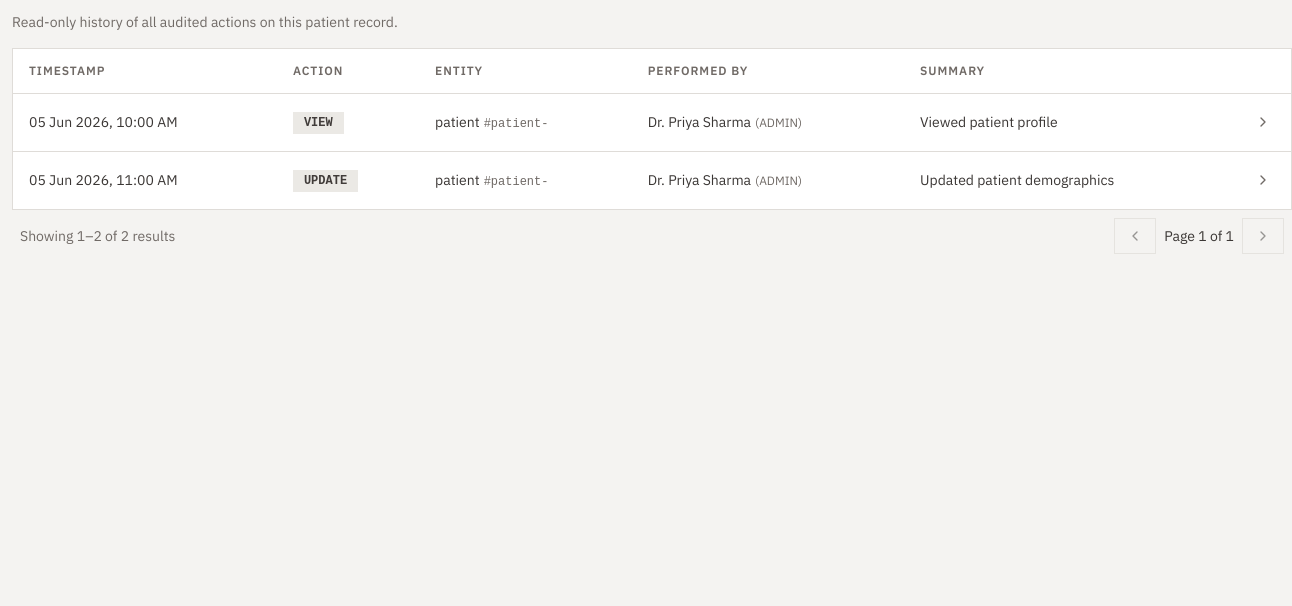
Test: AuditHistoryTab — detail panel › shows old/new value when an entry with data is expanded
Expected: the text "Updated patient demographics" is shown, [920, 170, 1140, 190]
Click the button named "view entry details" in the row of "05 Jun 2026, 11:00 AM" at (1263, 180), box [1251, 168, 1275, 192]
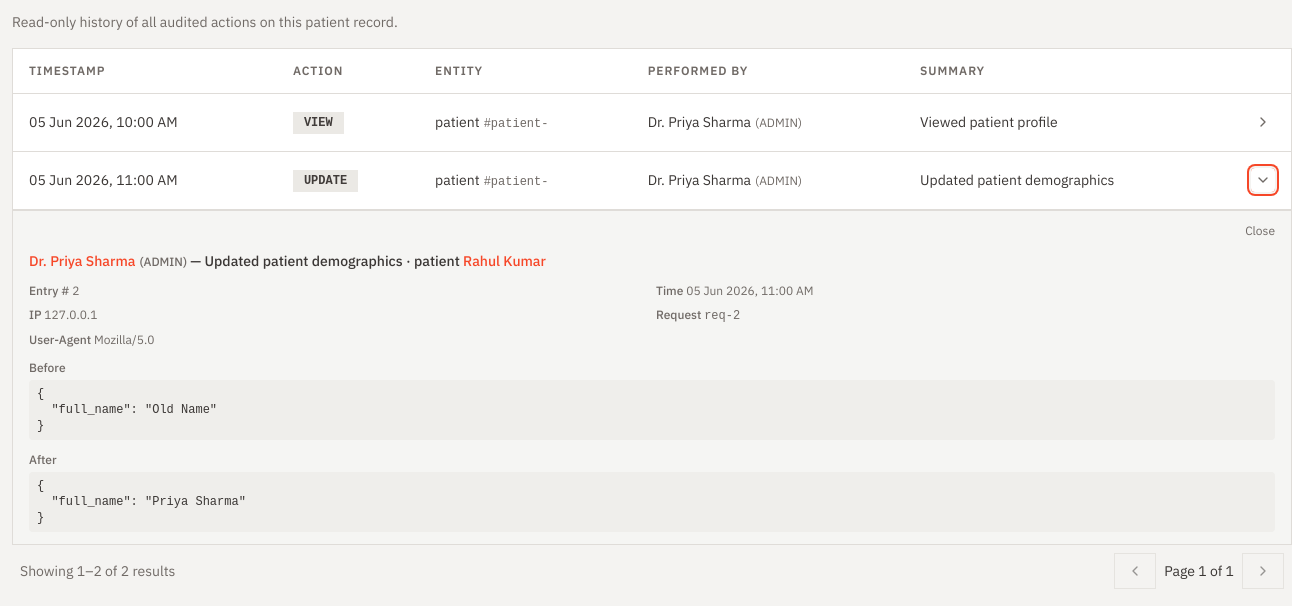
Now the element named "audit entry details" is shown, box [13, 210, 1291, 544]
Now the text "Before" is shown, box [29, 360, 66, 374]
Now the text "After" is shown, box [29, 452, 57, 466]
